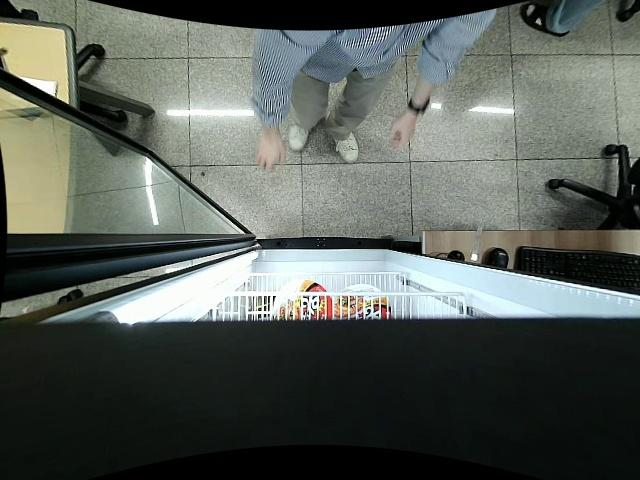00_hand: (253, 136, 288, 176), (388, 118, 416, 150)
